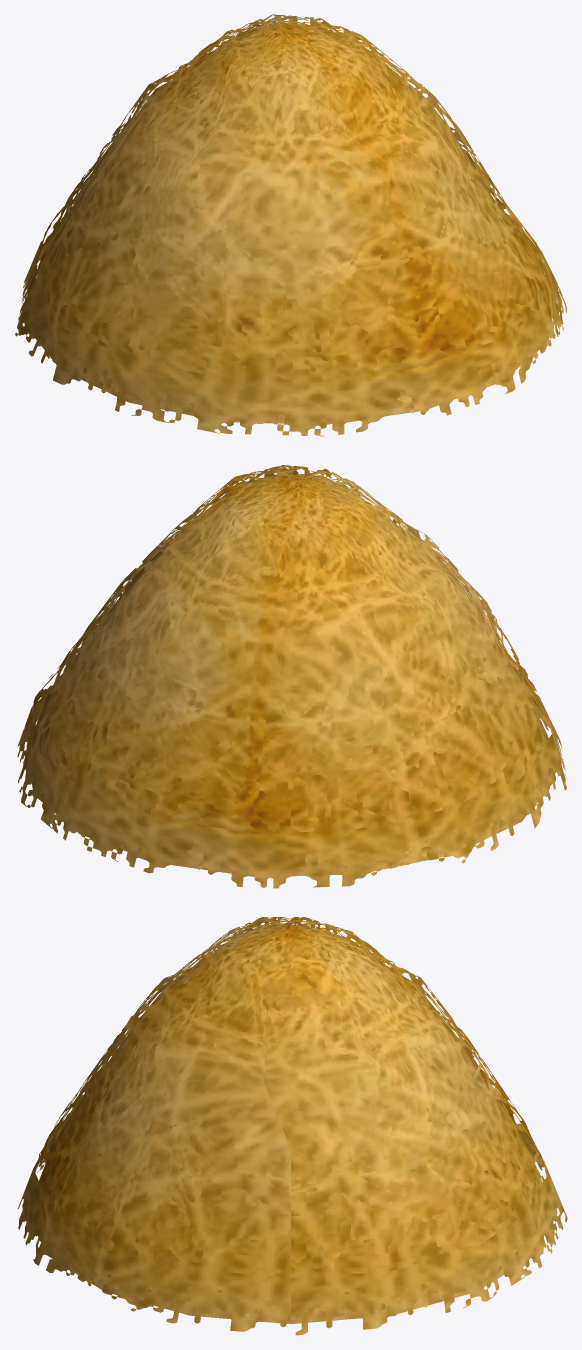
File: HAYSTACK.fbx
3 renders of one model, top to bottom at view 1: azimuth 30°, elevation 25°; view 2: azimuth 150°, elevation 25°; view 3: azimuth 270°, elevation 25°, orthographic.
Parts seen in each view (by area): view 1: HAYSTACK; view 2: HAYSTACK; view 3: HAYSTACK.
Part boxes in pixels (x1,y1,x2,y2): HAYSTACK: (15,14,566,436); HAYSTACK: (17,465,566,888); HAYSTACK: (18,917,567,1335).
Size of the model in its own units: 19308 by 11217 by 19308.
Materials: 2 (2 with a texture image).
